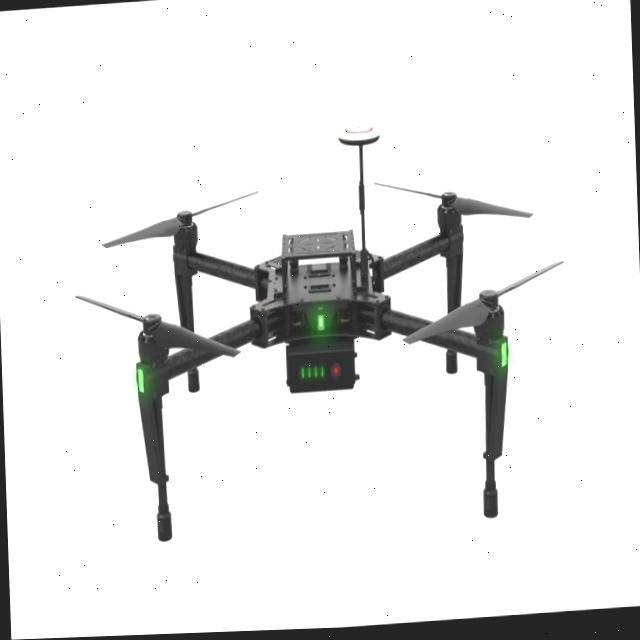drone: (0, 70, 640, 640)
